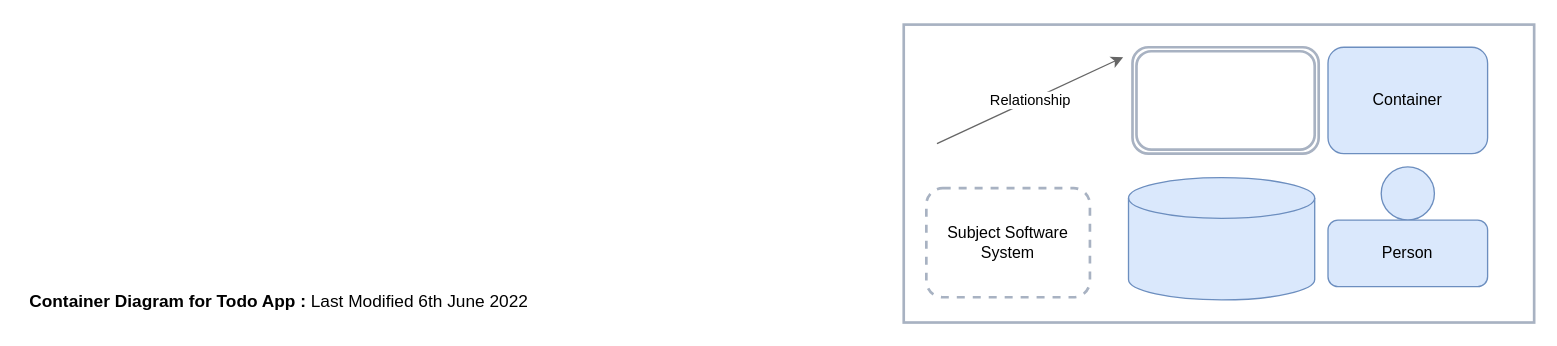
Image size: 1557x346. Some labels were removed from this diagram. Each missing label, with the centre of its shape:
"Datastore (Technology)" belongs at pixel 1221 238.
"External Software System" belongs at pixel 1224 99.
